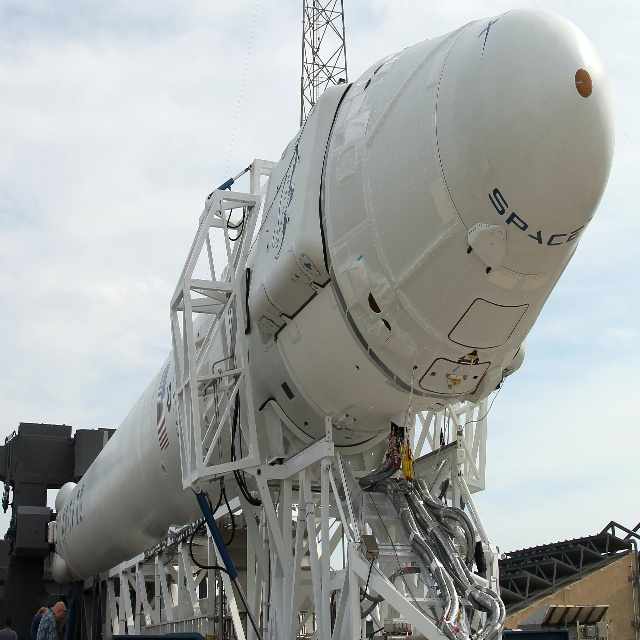Gafas: (59, 607, 68, 613)
